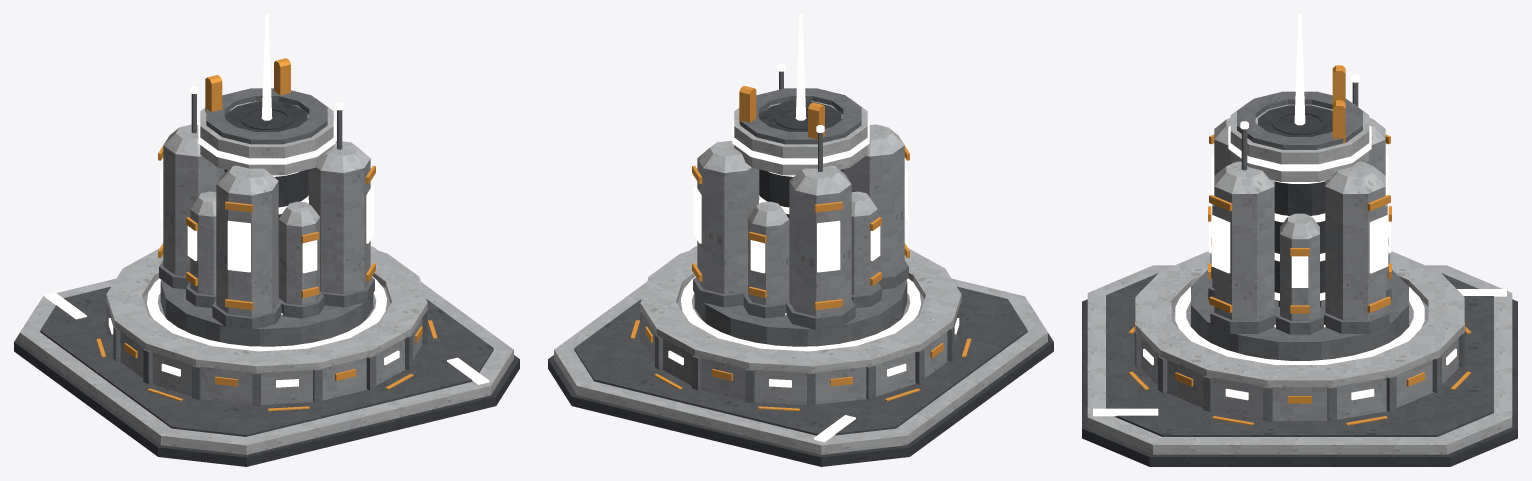
Rendered from power_ii_lod0.glb.
3 renders of one model, left to right at view 1: azimuth 30°, elevation 25°; view 2: azimuth 150°, elevation 25°; view 3: azimuth 270°, elevation 25°, orthographic. The views are drawn at different scales.
Visible parts, largest first — view 1: power_ii_base_body, power_ii_base_glow, power_ii_base_trim, power_ii_core_glow, power_ii_conduit_glow, power_ii_beam_glow; view 2: power_ii_base_body, power_ii_base_glow, power_ii_base_trim, power_ii_core_glow, power_ii_beam_glow; view 3: power_ii_base_body, power_ii_base_glow, power_ii_base_trim, power_ii_core_glow, power_ii_conduit_glow, power_ii_beam_glow, power_ii_core_body.
Part boxes in pixels (bbox=[...]): power_ii_base_body: bbox=[14, 88, 519, 466]; power_ii_base_glow: bbox=[108, 86, 399, 387]; power_ii_base_trim: bbox=[96, 58, 437, 411]; power_ii_core_glow: bbox=[147, 171, 386, 351]; power_ii_conduit_glow: bbox=[44, 292, 489, 384]; power_ii_beam_glow: bbox=[261, 14, 272, 120]; power_ii_base_body: bbox=[548, 71, 1053, 466]; power_ii_base_glow: bbox=[668, 63, 959, 387]; power_ii_base_trim: bbox=[630, 85, 971, 411]; power_ii_core_glow: bbox=[681, 171, 920, 351]; power_ii_beam_glow: bbox=[795, 14, 806, 120]; power_ii_base_body: bbox=[1082, 82, 1517, 466]; power_ii_base_glow: bbox=[1143, 74, 1456, 400]; power_ii_base_trim: bbox=[1128, 65, 1471, 425]; power_ii_core_glow: bbox=[1175, 180, 1424, 364]; power_ii_conduit_glow: bbox=[1093, 289, 1506, 416]; power_ii_beam_glow: bbox=[1294, 14, 1305, 125]; power_ii_core_body: bbox=[1272, 110, 1327, 134].
Bounding box in the file's own units: 4 × 3.65 × 4.
3 materials, 1 textured.
